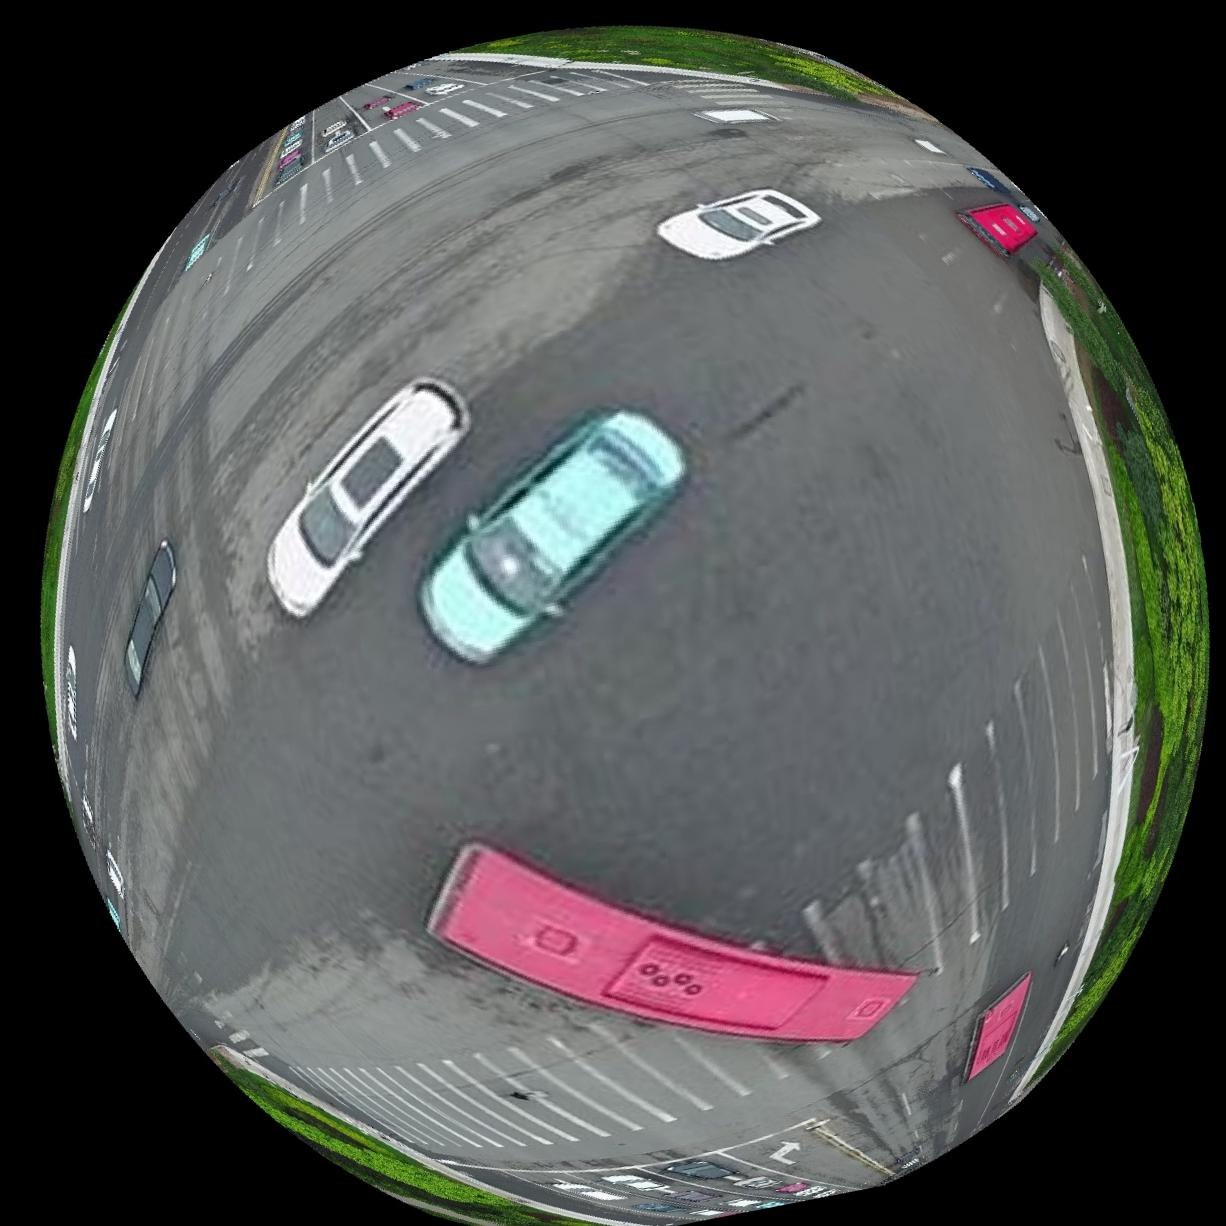cars: (426, 843, 916, 1043), (418, 410, 685, 662), (264, 376, 468, 616), (656, 185, 821, 258), (120, 540, 173, 694), (966, 972, 1032, 1080), (958, 200, 1036, 254), (79, 406, 113, 512), (60, 644, 73, 740)
trees: (1034, 244, 1209, 1064), (209, 1051, 619, 1226), (457, 22, 934, 118)
